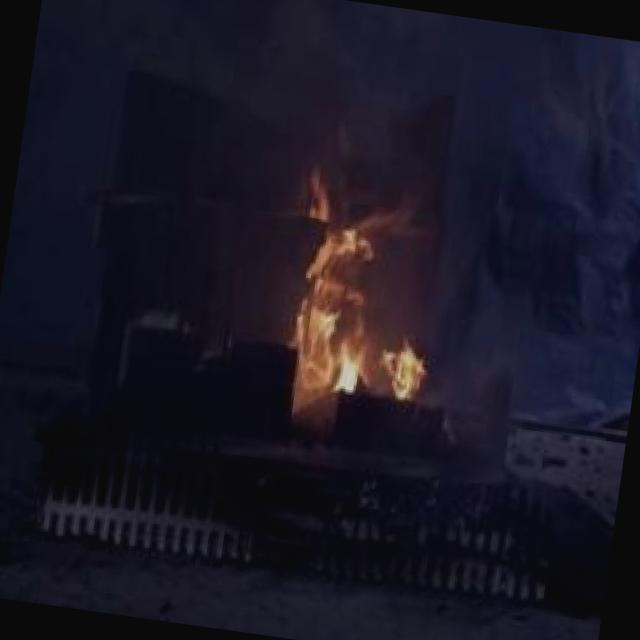fire: (269, 178, 456, 416)
